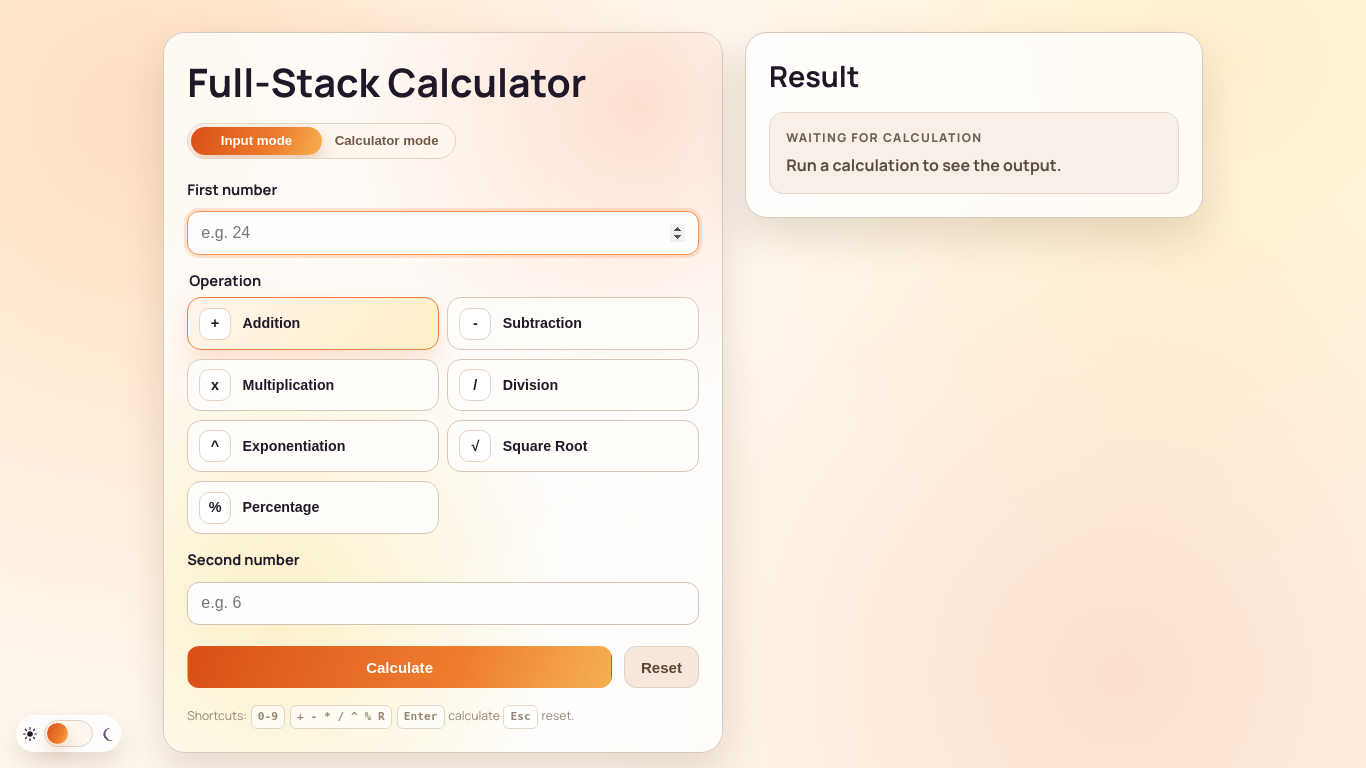
Test: App › renders API error message
Type "4" into the number field labelled "First number" at (443, 233), box [187, 211, 699, 255]
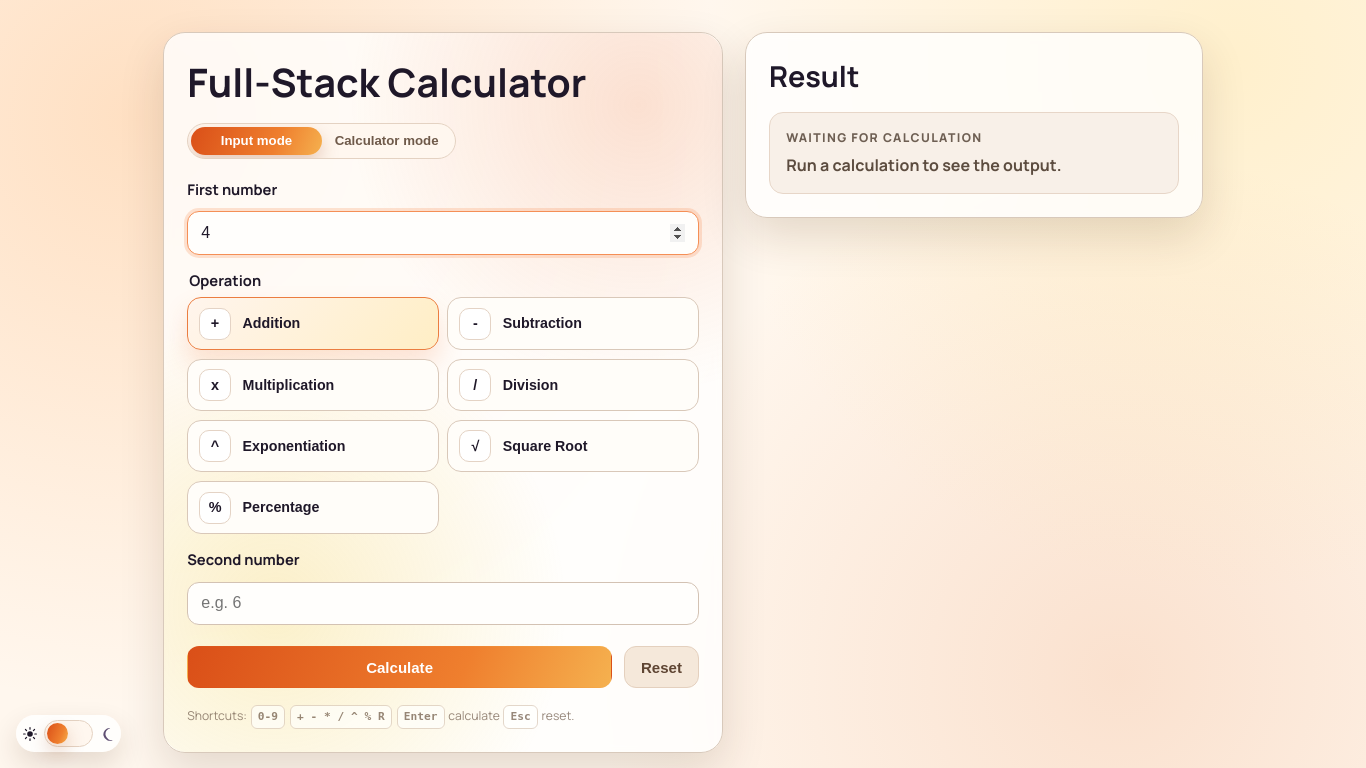
Click the button with aria-label "Division (/)" at (573, 385), box [448, 359, 699, 411]
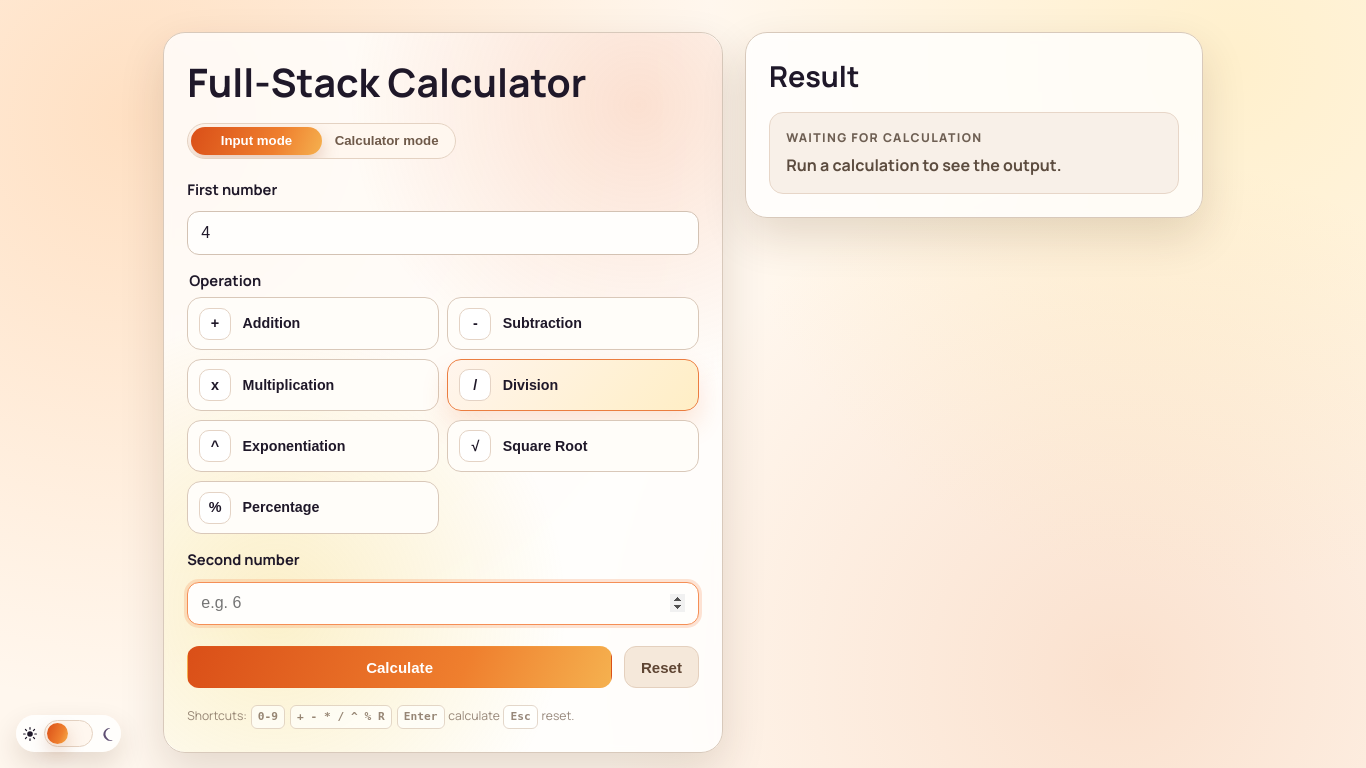
Type "0" into the number field labelled "Second number" at (443, 603), box [187, 582, 699, 625]
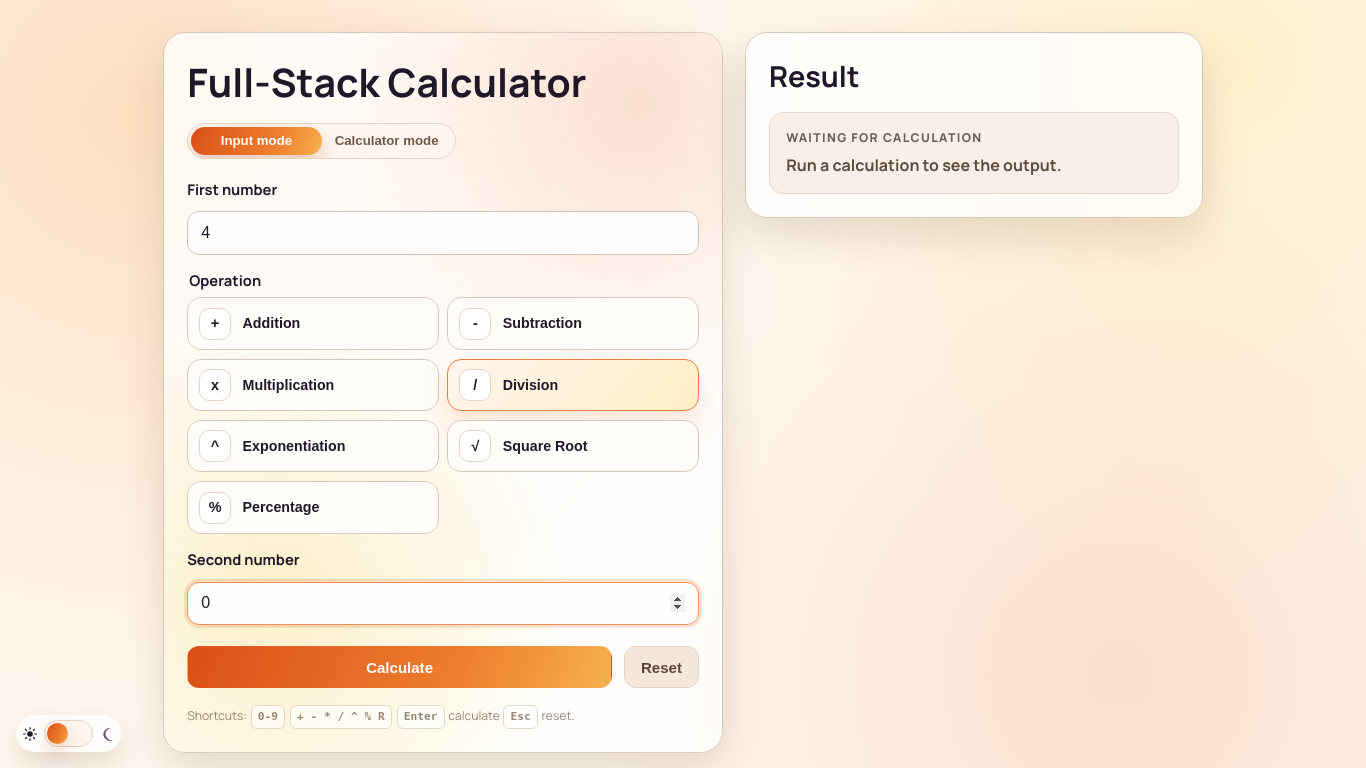
Click the button "Calculate" at (400, 667), box [187, 646, 612, 688]
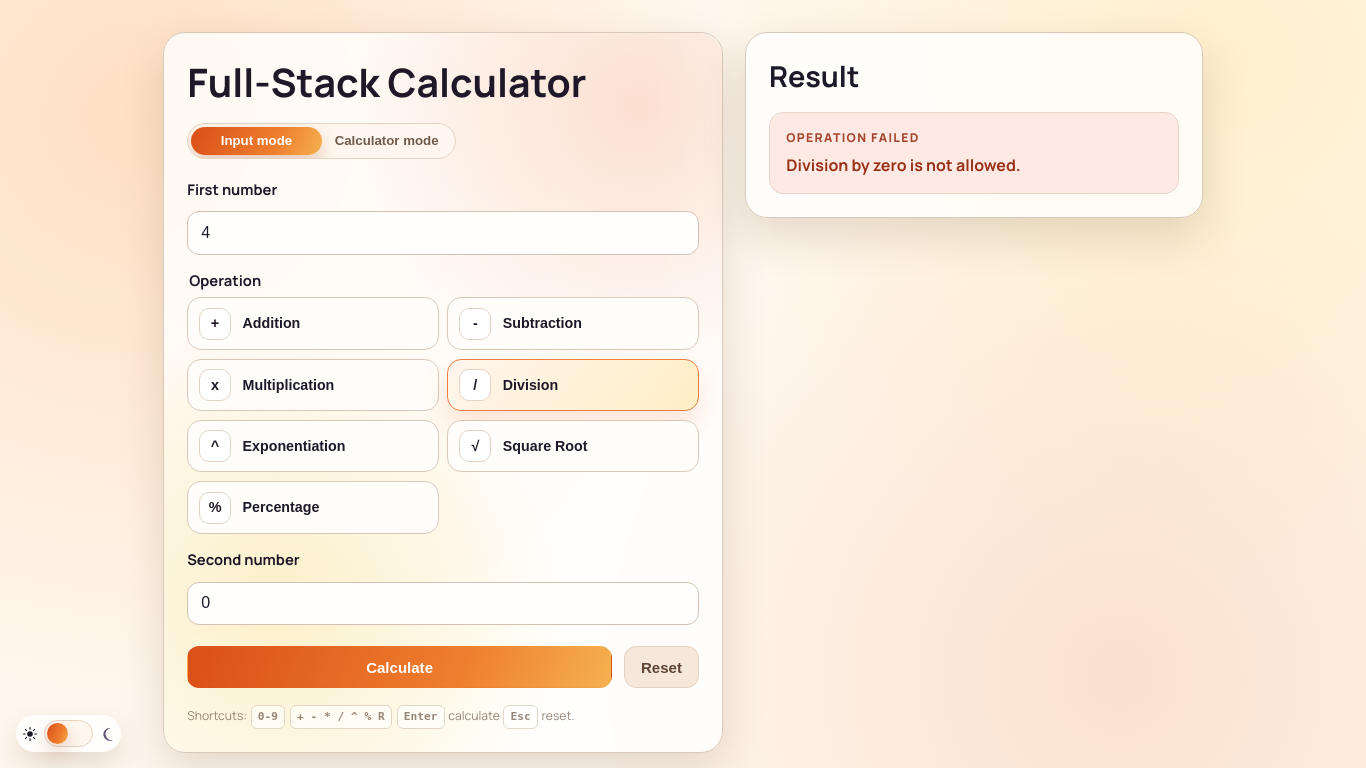
Expected: the message shows "Division by zero is not allowed.", [786, 154, 1021, 176]
